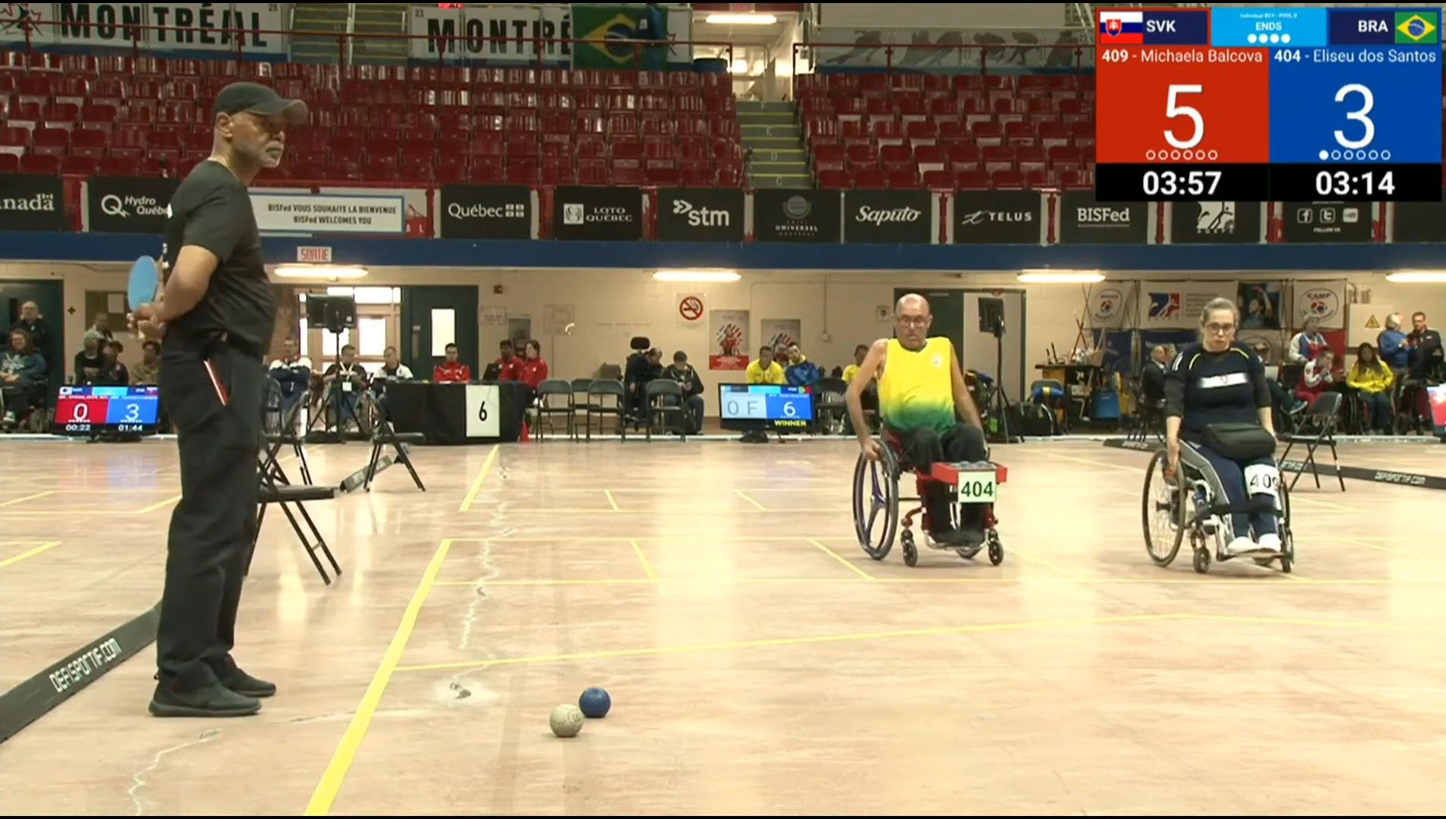blue_ball: (580, 685, 612, 720)
white_ball: (549, 704, 584, 737)
